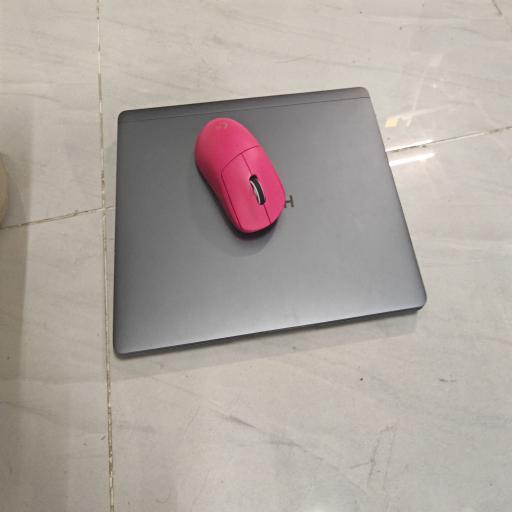laptop: (113, 88, 426, 354)
mouse: (195, 118, 285, 232)
